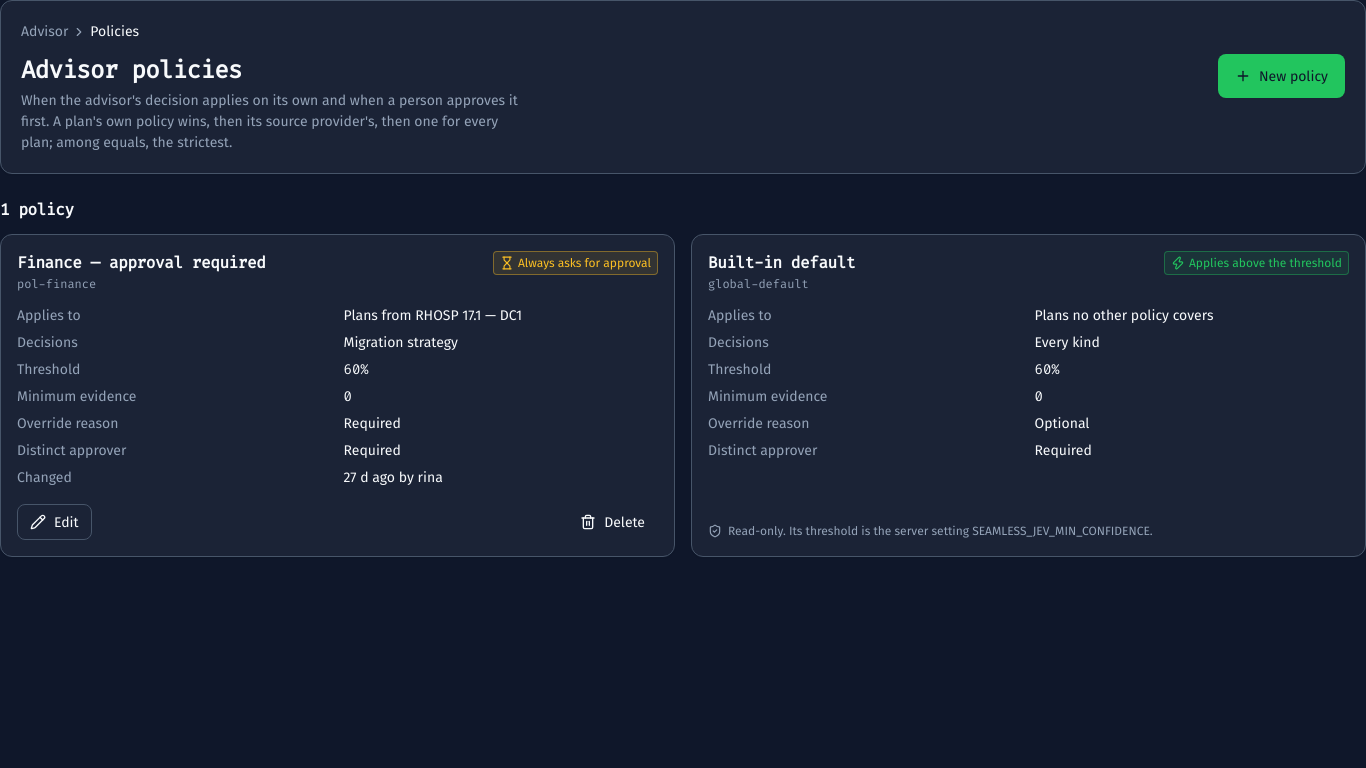
Test: Advisor policies page (SDD §14.6, §16, ADV-04) › scrolls a failed save into view (SDD §16)
Expected: the heading "1 policy" is shown, [0, 199, 74, 220]
Click the button "Edit". click: (54, 522)
box: [17, 504, 92, 540]
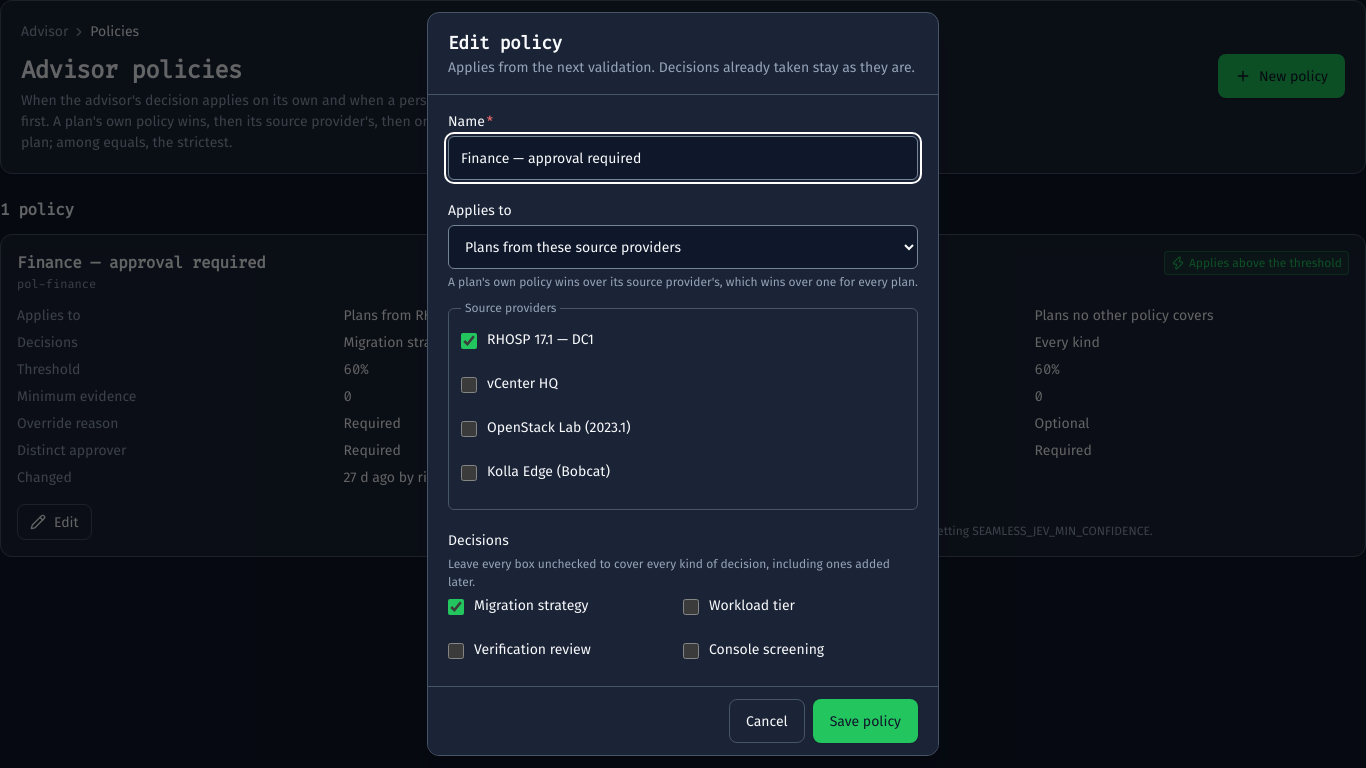
Click the button "Save policy". click: (865, 721)
box: [813, 699, 918, 743]
(page scrolled)
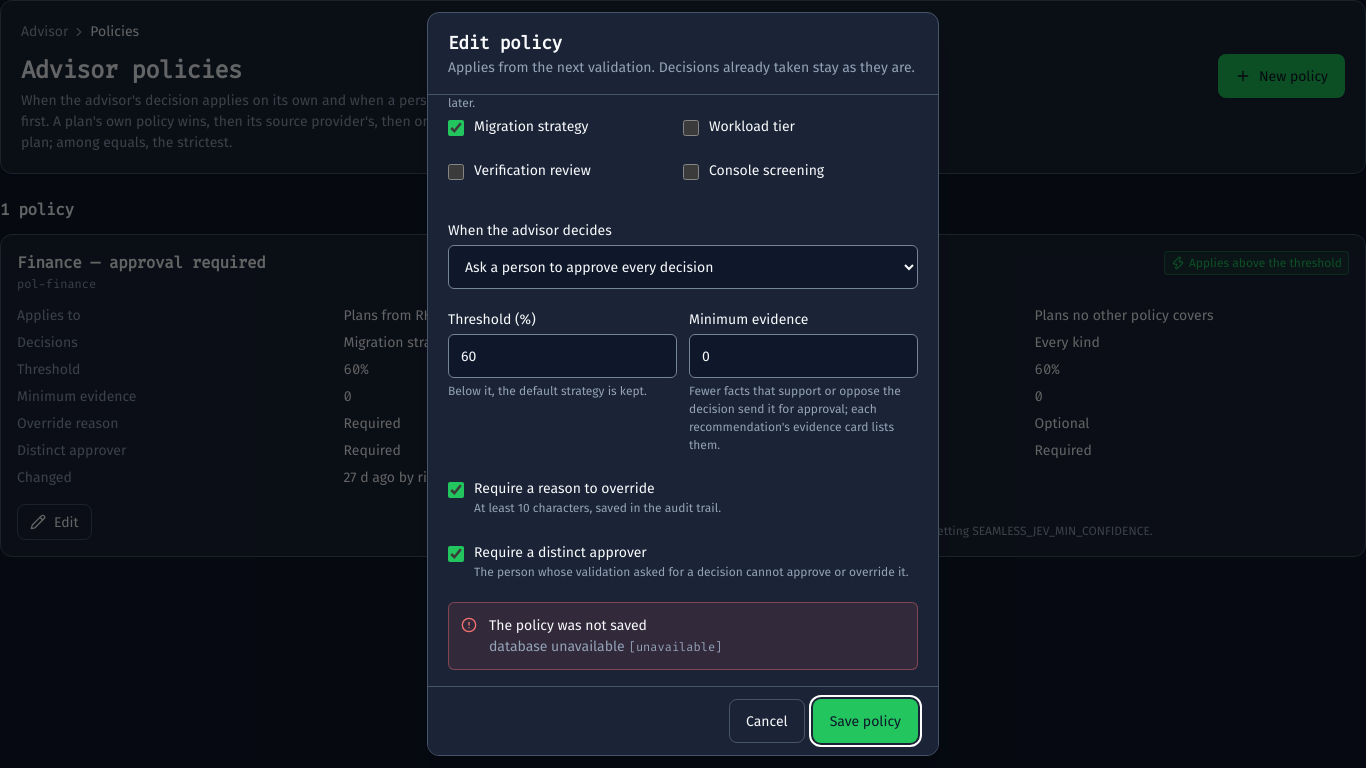
Now the message shows "The policy was not saved", box [489, 617, 647, 634]
